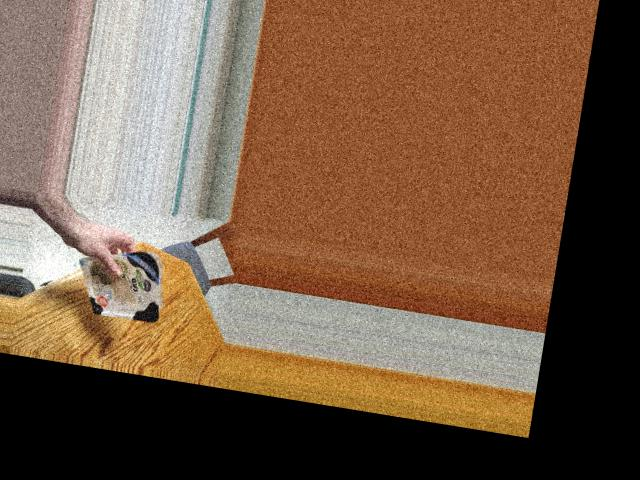cheese: (78, 253, 169, 317)
